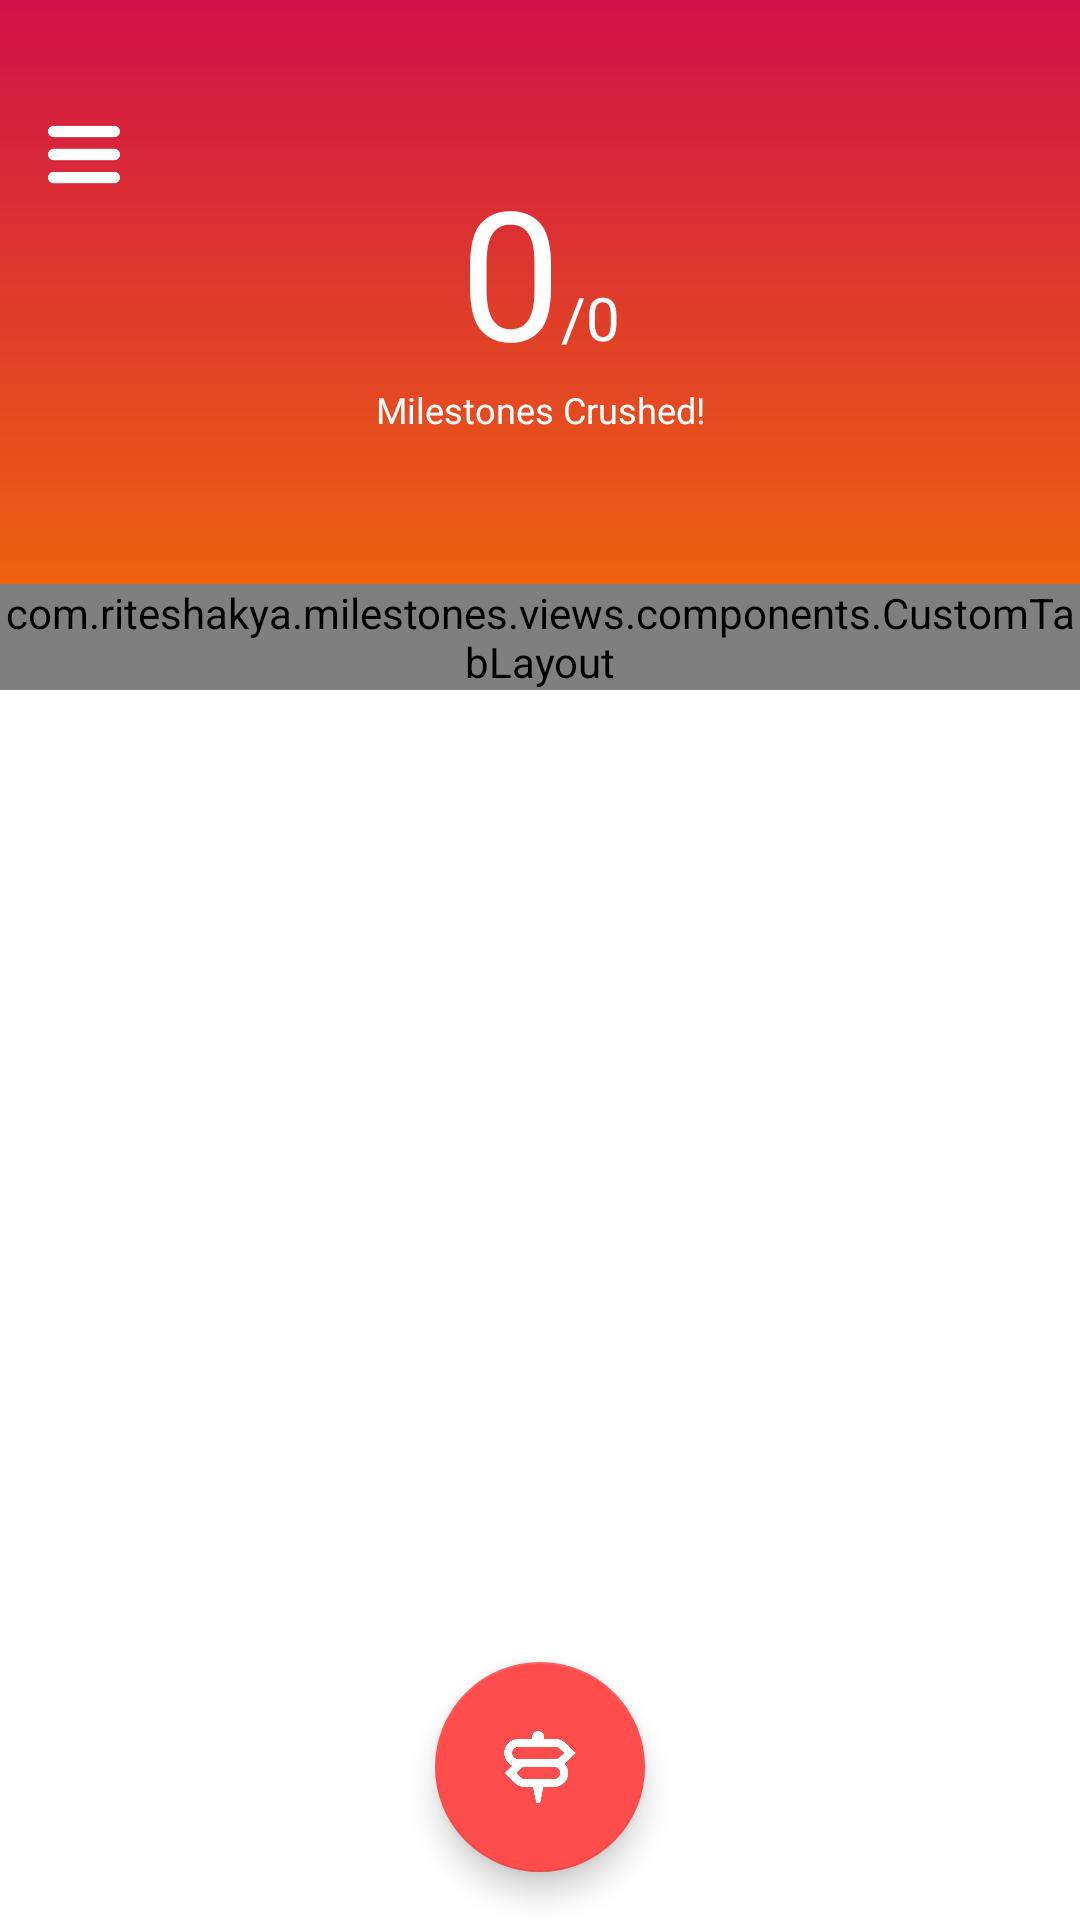

Icon bounding boxes for this 1080px x 1920px phone screenshot, format detection(x1, y1, x2, y2):
menu: detection(48, 125, 120, 184)
